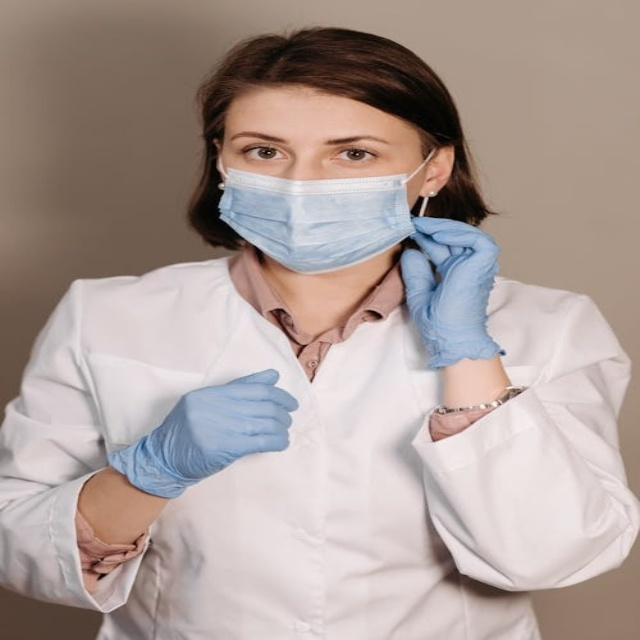Guantes: (110, 368, 299, 499), (401, 216, 505, 369)
Mascara: (214, 142, 429, 272)
Sin_gafas: (225, 126, 394, 172)
